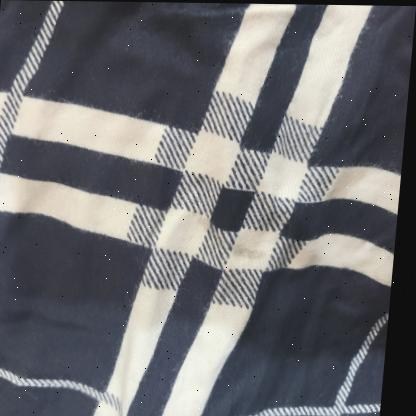spot: (197, 193, 274, 269)
